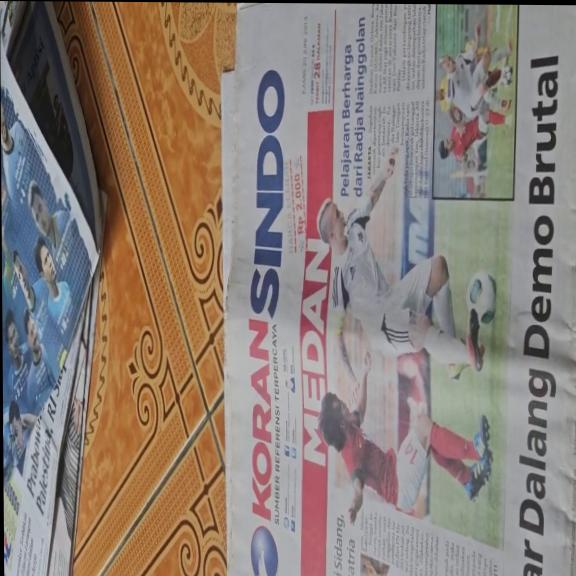Kertas: (227, 12, 576, 576)
